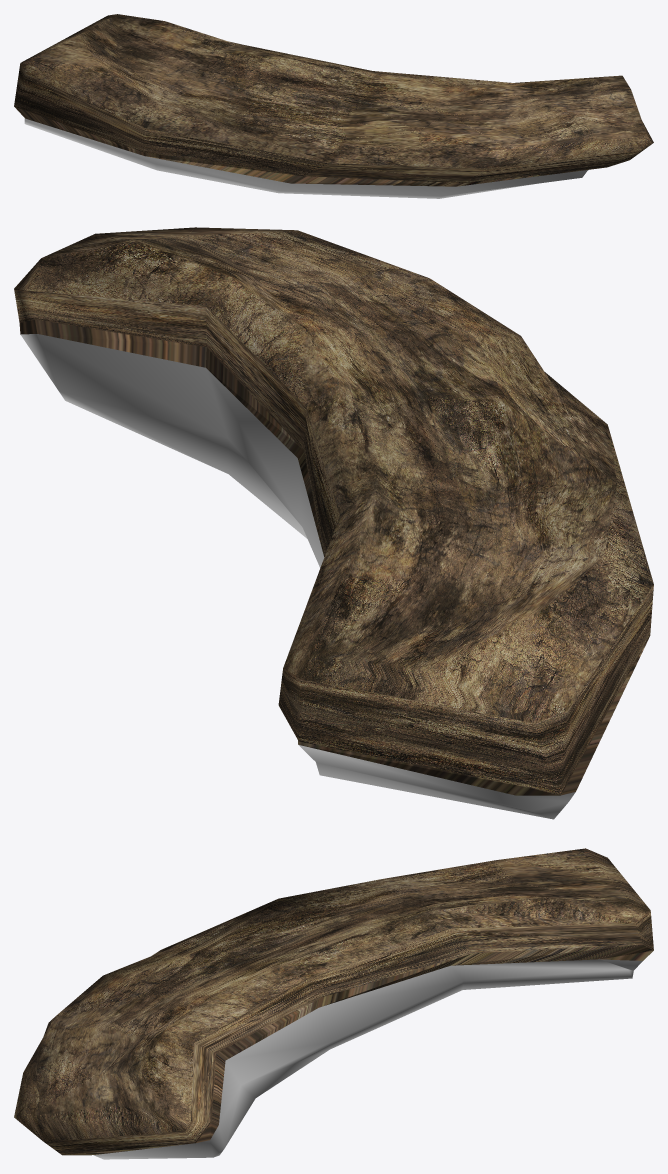
File: PlatIce01.FBX
The picture shows the model from 3 angles, top to bottom: view 1: azimuth 30°, elevation 25°; view 2: azimuth 150°, elevation 25°; view 3: azimuth 270°, elevation 25°; orthographic projection. The views are drawn at different scales.
Parts seen in each view (by area): view 1: Plat010; view 2: Plat010; view 3: Plat010.
Boxes of the visible parts, box(x1,y1,x2,y2) form: Plat010: box(14, 14, 653, 198); Plat010: box(14, 227, 653, 819); Plat010: box(14, 848, 653, 1159).
Size of the model in its own units: 42.64 by 8.18 by 41.42.
